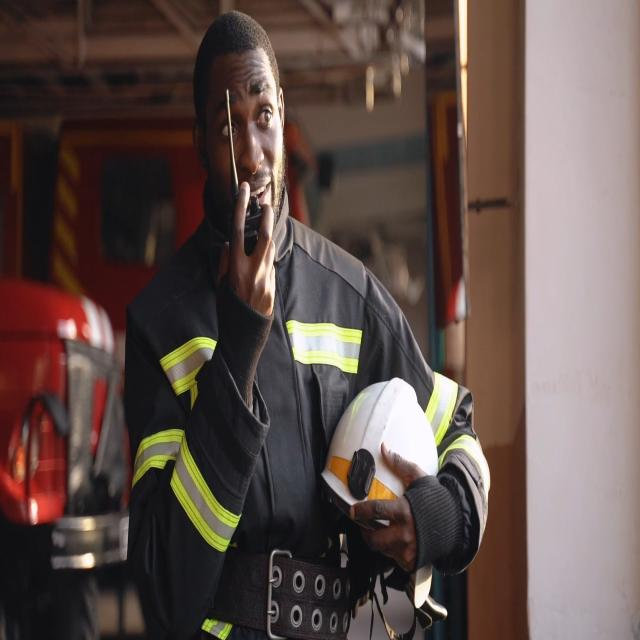Jacket_Wearer: (115, 213, 494, 640)
Person: (112, 13, 477, 640)
